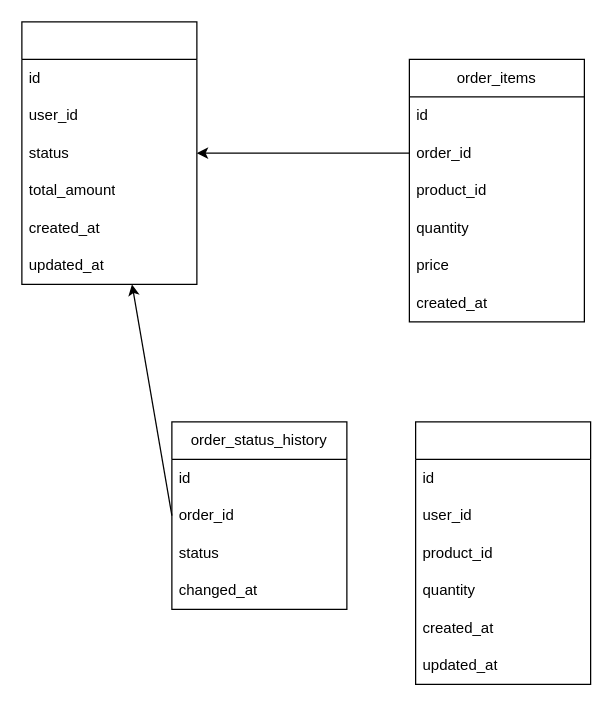
Image size: 613x706. Some labels were removed from this diagram. Each missing label, with the box of its shape:
cart: (414, 421, 591, 684)
orders: (21, 21, 197, 284)
